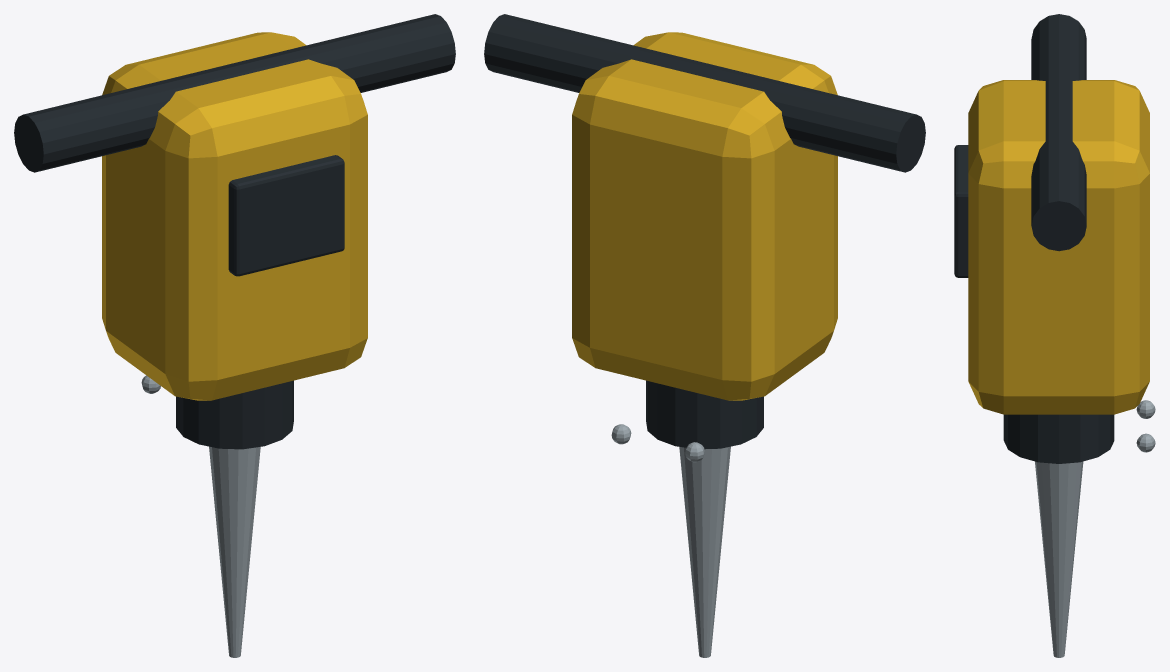
Rendered from jackhammer.glb.
The picture shows the model from 3 angles, left to right: view 1: azimuth 30°, elevation 25°; view 2: azimuth 150°, elevation 25°; view 3: azimuth 270°, elevation 25°; orthographic projection. The views are drawn at different scales.
Visible parts, largest first — view 1: hammer motor; view 2: hammer motor; view 3: hammer motor.
Part boxes in pixels (x1=…): hammer motor: x1=14, y1=14, x2=455, y2=657; hammer motor: x1=484, y1=14, x2=925, y2=657; hammer motor: x1=954, y1=14, x2=1155, y2=657.
Size of the model in its own units: 0.56 by 0.765 by 0.2545.
